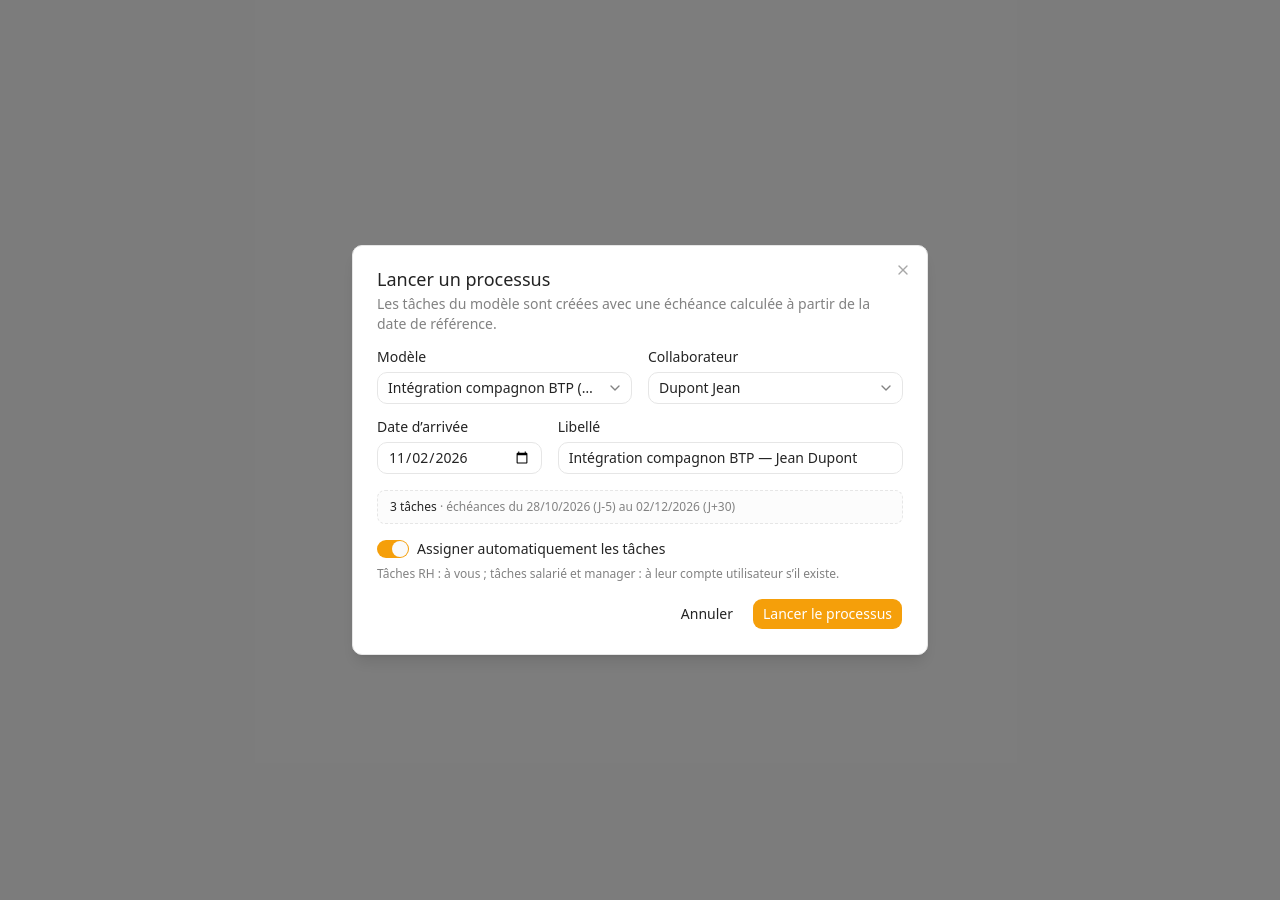
it: LancerProcessusDialog › affiche l’erreur serveur (ex. processus déjà en cours)
The width and height of the screenshot is (1280, 900).
Click the button "Lancer le processus".
click(828, 614)  # box [752, 598, 903, 630]
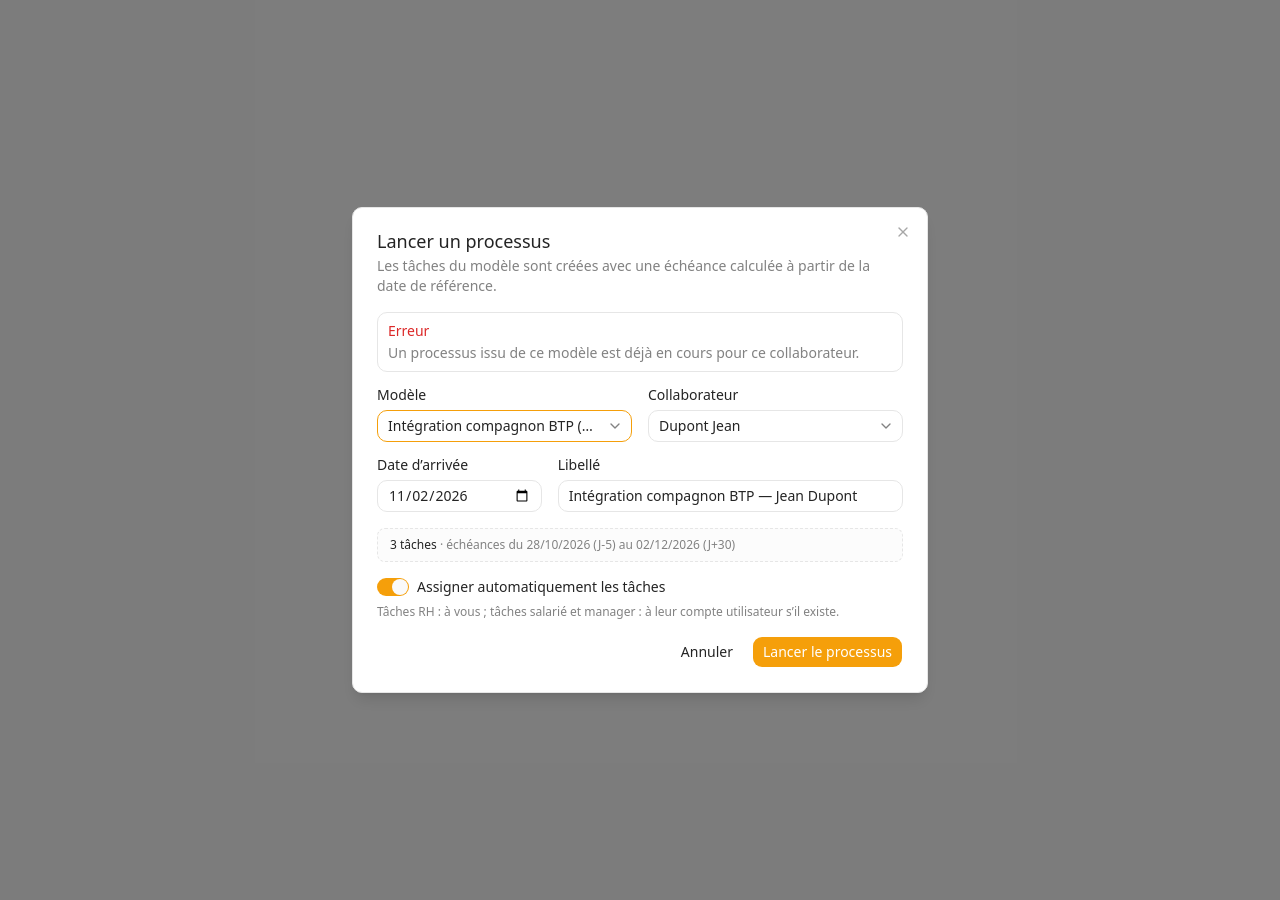
expect the text "déjà en cours" is shown: met, box [388, 343, 859, 362]
